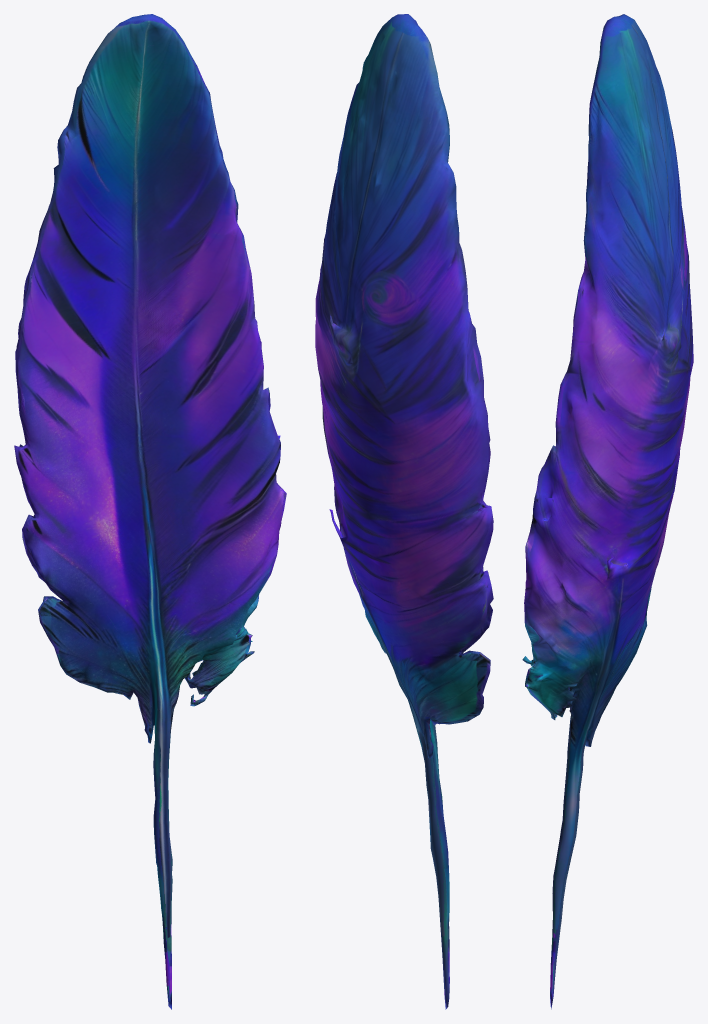
The model's file is A_single_magical_bird_0728113233_texture.fbx.
3 renders of one model, left to right at view 1: azimuth 30°, elevation 25°; view 2: azimuth 150°, elevation 25°; view 3: azimuth 270°, elevation 25°, orthographic. The views are drawn at different scales.
Parts seen in each view (by area): view 1: input; view 2: input; view 3: input.
Boxes of the visible parts, x1,y1,x2,y2 form: input: (14,14,286,1009); input: (315,14,493,1009); input: (522,14,693,1009).
Size of the model in its own units: 44.38 by 199 by 31.1.
1 material, 1 textured.
